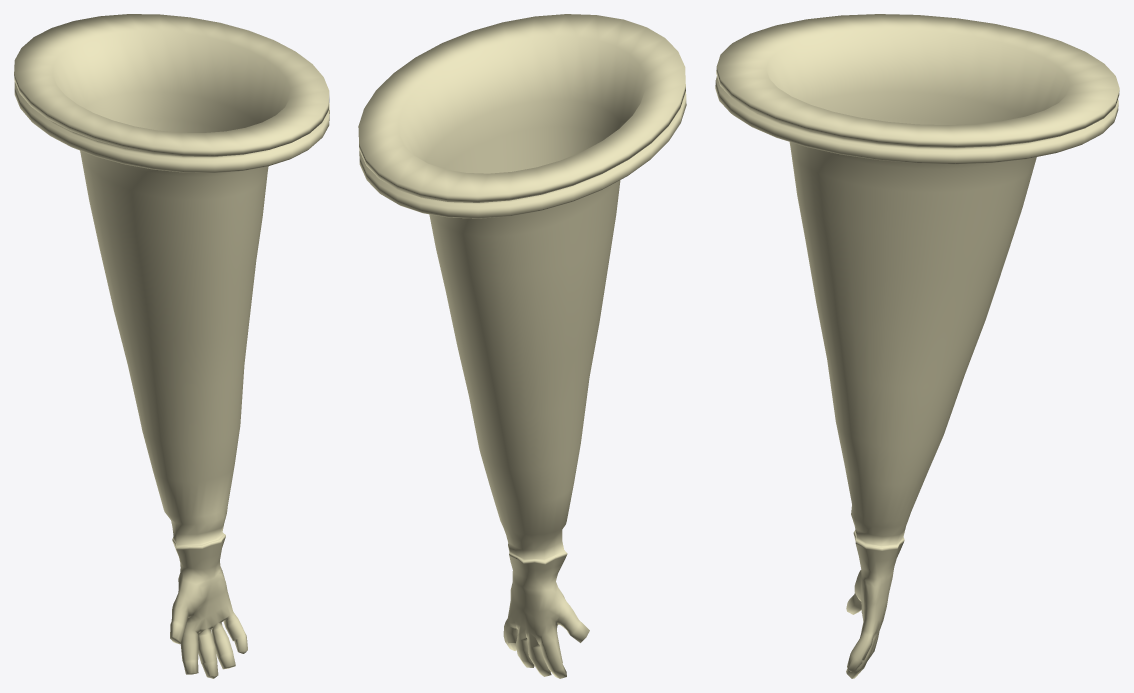
The model's file is Glove animated opened.fbx.
3 views of the same model, side by side, from view 1: azimuth 30°, elevation 25°; view 2: azimuth 150°, elevation 25°; view 3: azimuth 270°, elevation 25° (orthographic). The views are drawn at different scales.
Visible parts, largest first — view 1: glove animated; view 2: glove animated; view 3: glove animated.
Part boxes in pixels (x1,y1,x2,y2): glove animated: [14, 14, 329, 678]; glove animated: [358, 14, 686, 678]; glove animated: [715, 14, 1119, 678].
Bounding box in the file's own units: 30.76 × 69.37 × 42.13.
